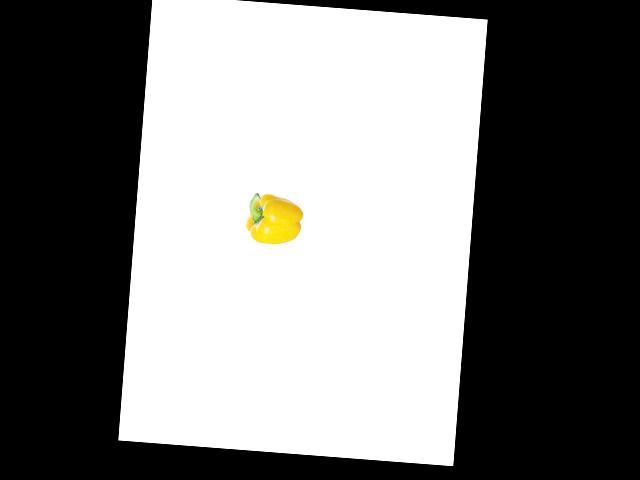bell_pepper: (239, 186, 307, 251)
